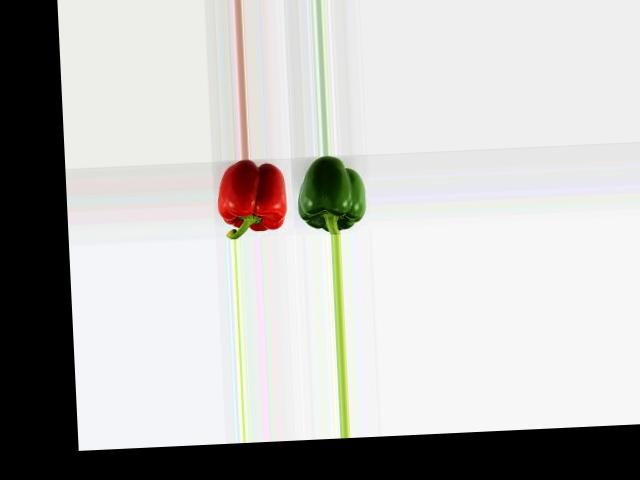bell_pepper: (293, 157, 369, 235)
